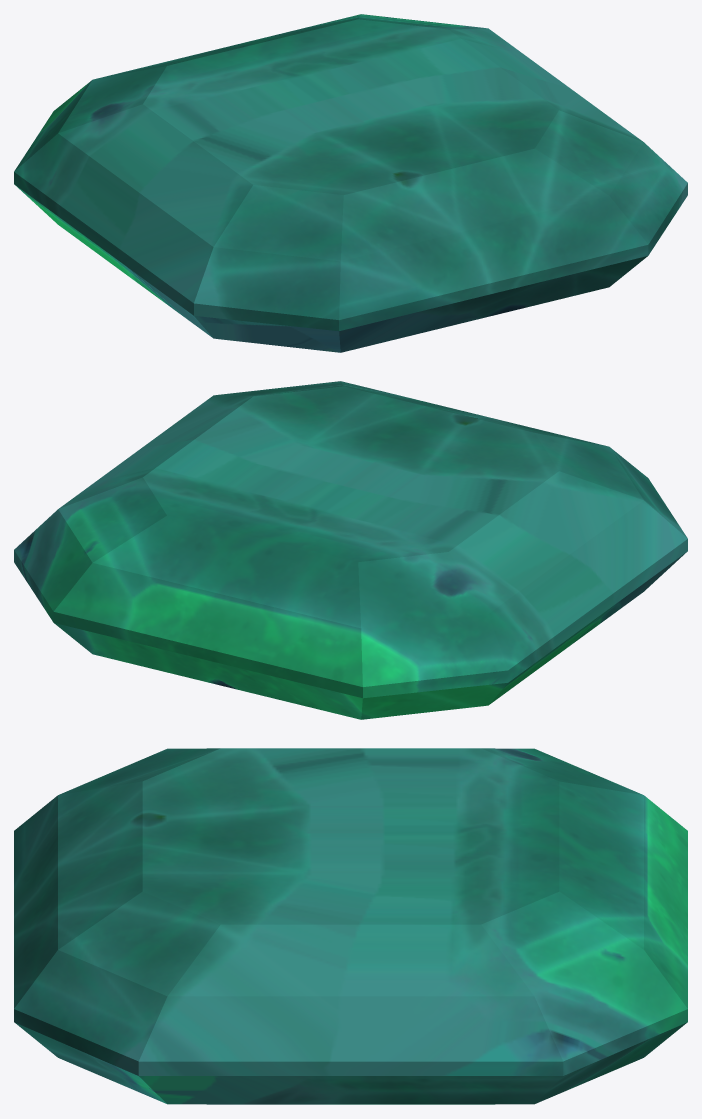
3 renders of one model, top to bottom at view 1: azimuth 30°, elevation 25°; view 2: azimuth 150°, elevation 25°; view 3: azimuth 270°, elevation 25°, orthographic. The views are drawn at different scales.
Visible parts, largest first — view 1: Gemstone_03.002; view 2: Gemstone_03.002; view 3: Gemstone_03.002.
Boxes of the visible parts, left/top/right/bottom form: Gemstone_03.002: left=14, top=14, right=687, bottom=352; Gemstone_03.002: left=14, top=381, right=687, bottom=719; Gemstone_03.002: left=14, top=748, right=687, bottom=1104.
Size of the model in its own units: 0.8924 by 0.2632 by 0.8932.
Materials: 1 (1 with a texture image).
